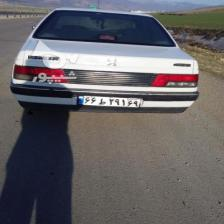plate: (77, 92, 143, 108)
